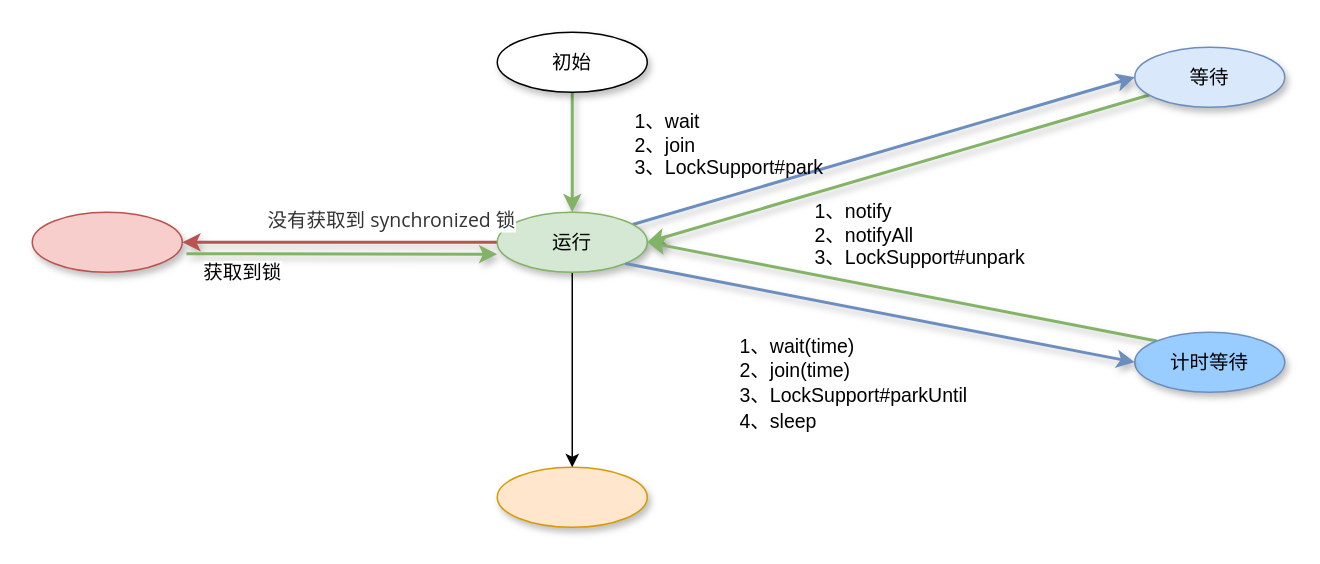
Some shapes in this 1320 by 564 pixel diagram are drawn without their labels. The shapes that lost their labels are listed below. From the top down, each one's centre as x and y in pixels, then its label:
At point 108,244: "阻塞状态".
At point 573,499: "终止".
